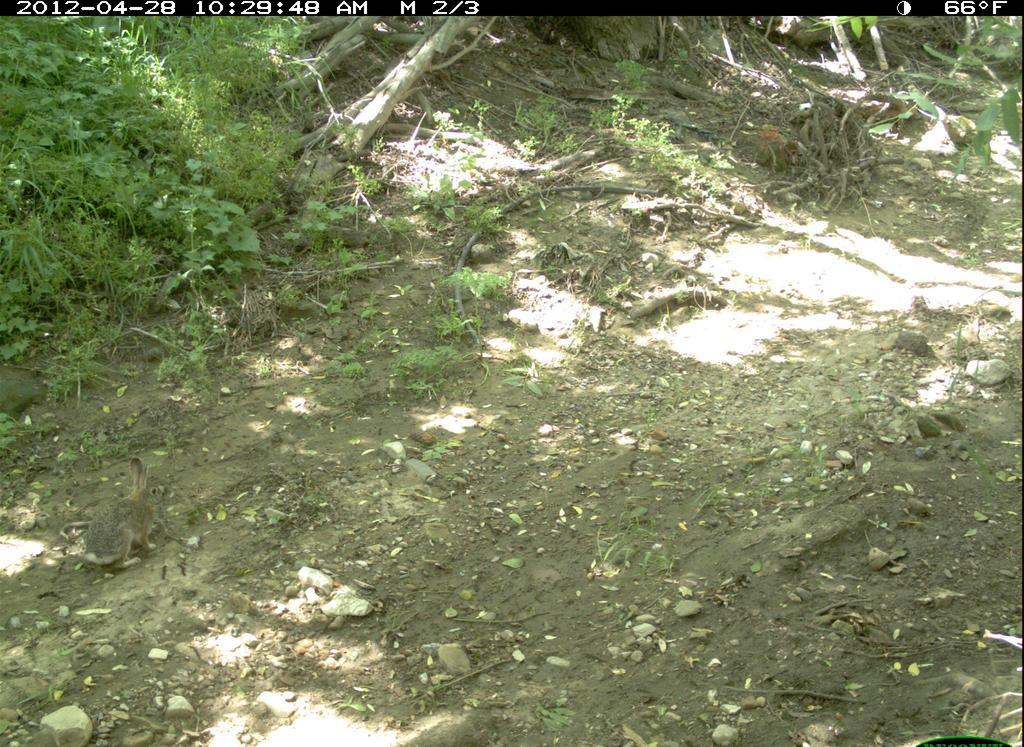rabbit: (70, 449, 184, 592)
